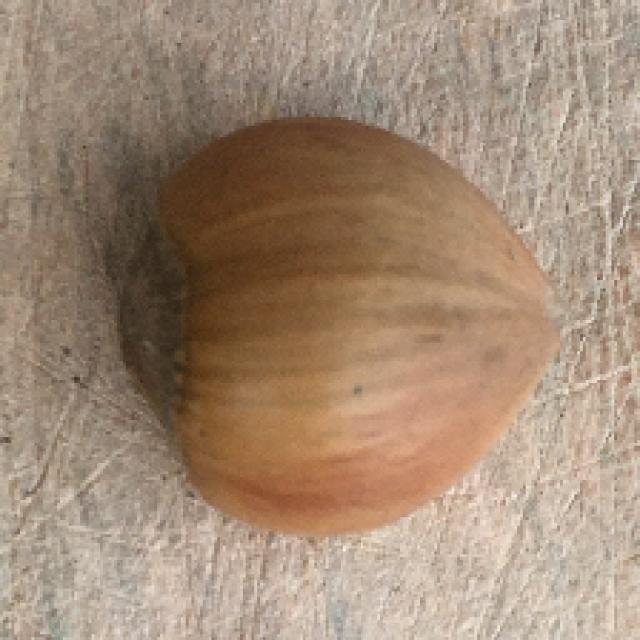DamagedHazelnut: (120, 115, 573, 539)
